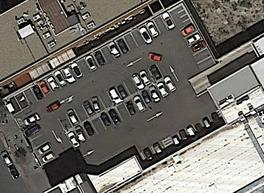parkingspot: (14, 10, 178, 112), (64, 74, 179, 150), (56, 62, 164, 133), (140, 110, 224, 169), (179, 21, 218, 73), (22, 122, 58, 167)
